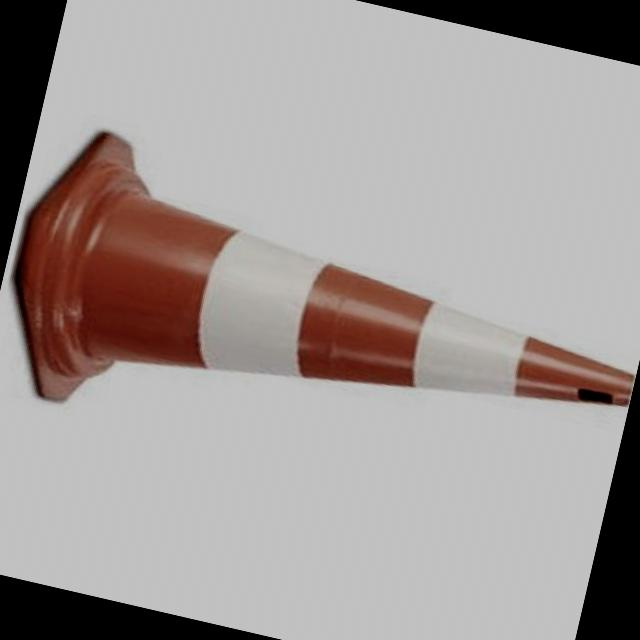cone: (26, 151, 640, 499)
